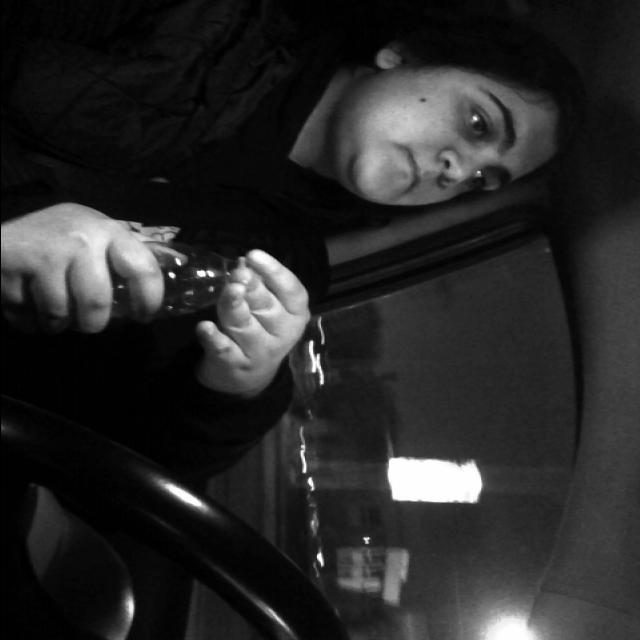drinking: (3, 242, 262, 330)
